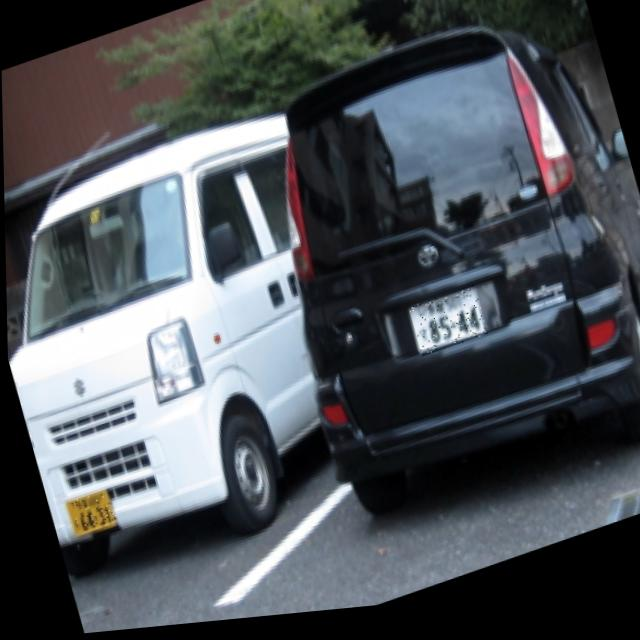license_plate: (406, 292, 486, 366), (64, 490, 115, 535)
